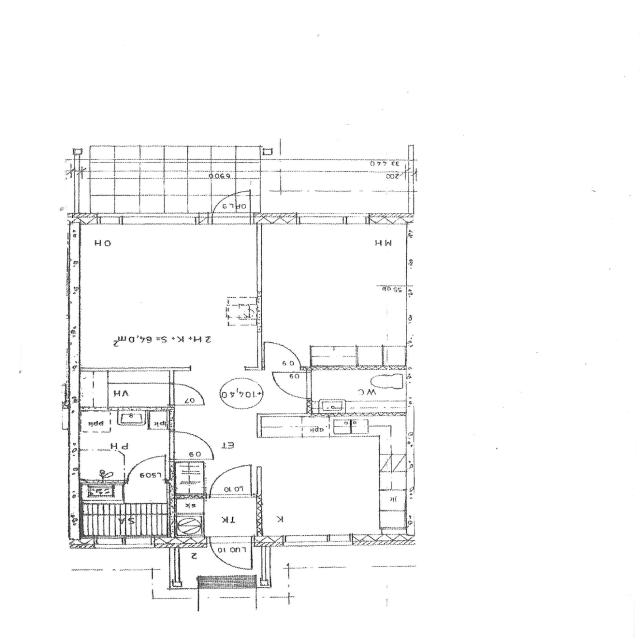door: (263, 341, 310, 404), (207, 461, 258, 498), (210, 536, 256, 572), (168, 428, 218, 460), (125, 454, 170, 482), (270, 370, 312, 400), (167, 381, 210, 407)
window: (402, 225, 417, 264)
zone: (69, 224, 263, 370), (258, 223, 408, 367), (252, 428, 404, 542), (462, 334, 635, 408), (74, 408, 173, 487), (78, 484, 172, 539), (305, 370, 407, 416), (79, 370, 174, 411), (204, 496, 261, 540), (206, 458, 258, 499), (379, 505, 408, 534)
